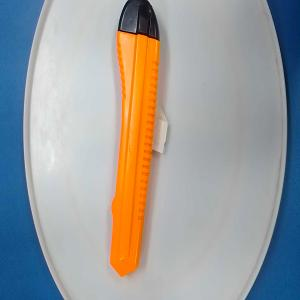estilete: (110, 0, 160, 278)
